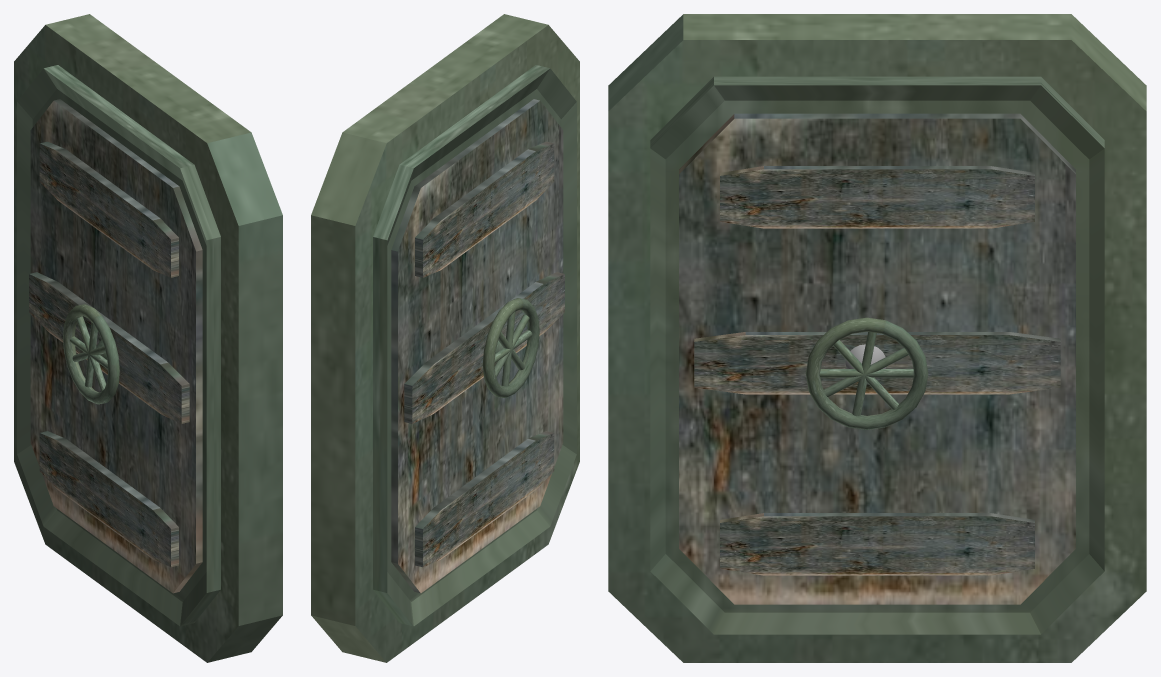
Rendered from porta hydra.fbx.
The picture shows the model from 3 angles, left to right: view 1: azimuth 30°, elevation 25°; view 2: azimuth 150°, elevation 25°; view 3: azimuth 270°, elevation 25°; orthographic projection. The views are drawn at different scales.
Visible parts, largest first — view 1: pCube397, pCube399, pCube398, pCube402, pCube401, pCube400, pTorus2, pCylinder33, pCylinder34; view 2: pCube397, pCube399, pCube398, pCube402, pCube401, pCube400, pTorus2, pCylinder34; view 3: pCube399, pCube397, pCube398, pCube401, pCube402, pCube400, pTorus1.
Boxes of the visible parts, box(x1,y1,x2,y2) form: pCube397: box(14, 14, 282, 662); pCube399: box(30, 99, 202, 593); pCube398: box(17, 65, 220, 626); pCube402: box(39, 141, 178, 277); pCube401: box(39, 431, 178, 567); pCube400: box(29, 272, 189, 423); pTorus2: box(63, 304, 119, 404); pCylinder33: box(76, 316, 105, 391); pCylinder34: box(85, 322, 97, 387); pCube397: box(311, 14, 579, 662); pCube399: box(391, 99, 563, 593); pCube398: box(373, 65, 576, 626); pCube402: box(415, 141, 554, 277); pCube401: box(415, 431, 554, 567); pCube400: box(404, 272, 564, 423); pTorus2: box(482, 298, 539, 397); pCylinder34: box(501, 311, 515, 386); pCube399: box(679, 113, 1075, 604); pCube397: box(608, 14, 1146, 662); pCube398: box(650, 76, 1104, 634); pCube401: box(720, 513, 1034, 575); pCube402: box(720, 166, 1034, 228); pCube400: box(694, 332, 1060, 394); pTorus1: box(805, 317, 928, 429).
Size of the model in its own units: 145 by 525 by 411.
